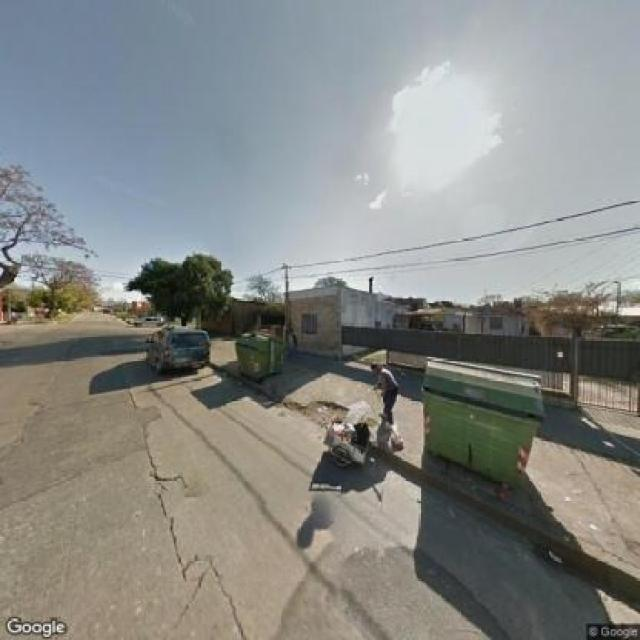garbage: (323, 397, 379, 472)
